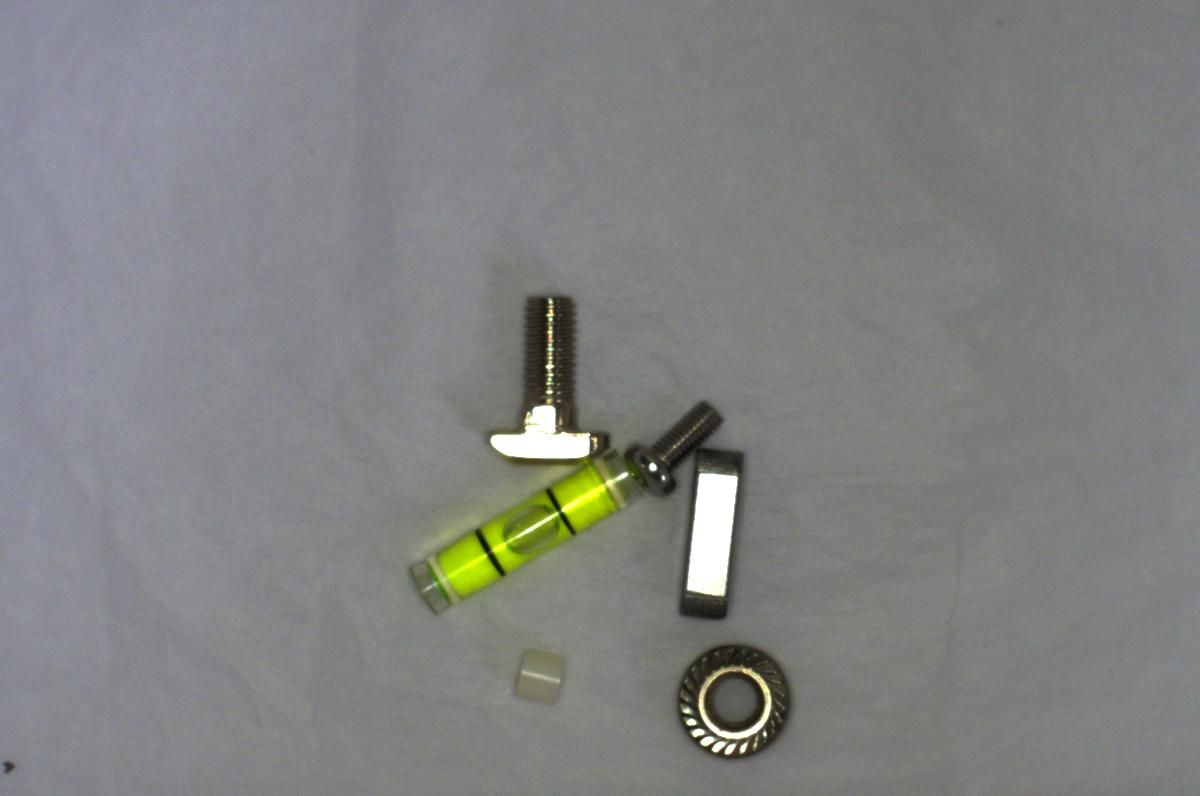Flange nut: (667, 645, 799, 768)
Horizontal bubble: (399, 442, 657, 618)
Keybar: (672, 448, 741, 625)
Plastic cushion pillar: (499, 634, 577, 713)
Round head screw: (619, 388, 726, 495)
T-shaped screw: (490, 280, 611, 469)
